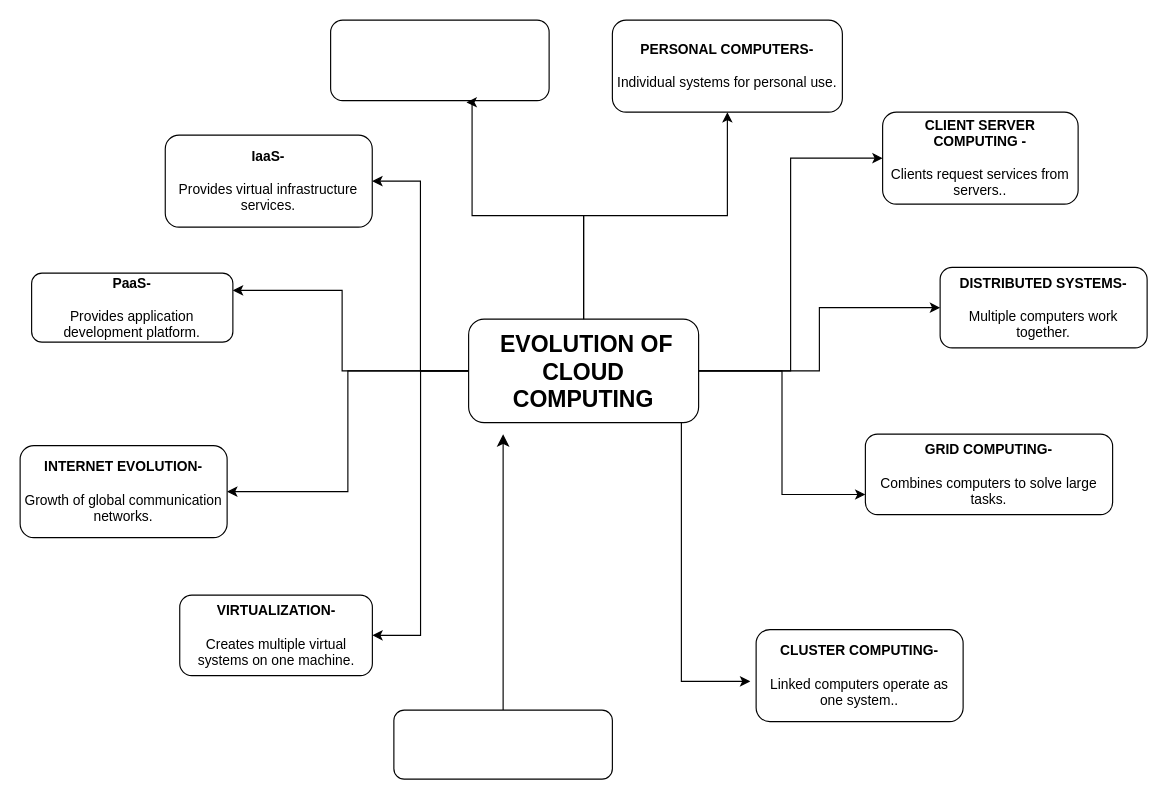
Some shapes in this 1167 by 799 pixel diagram are drawn without their labels. The shapes that lost their labels are listed below. From the top down, each one's centre as x and y in pixels, then its label:
(439,60): MAINFRAME COMPUTING- Centralized computing using large computers.
(502,744): UTILITY COMPUTING- Computing resources are provided like utilities.
